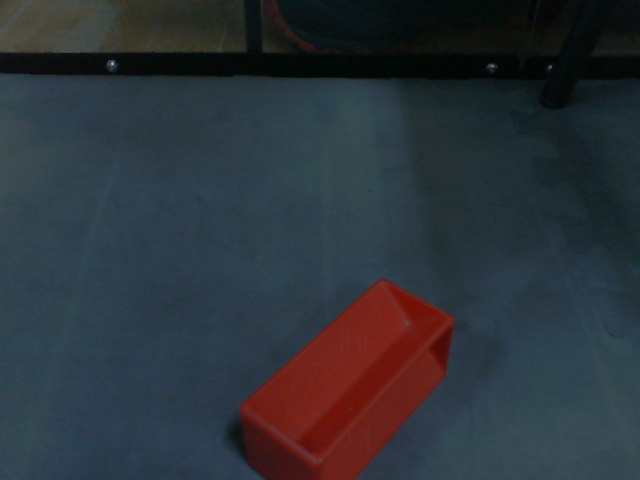RedSample: (235, 276, 456, 480)
